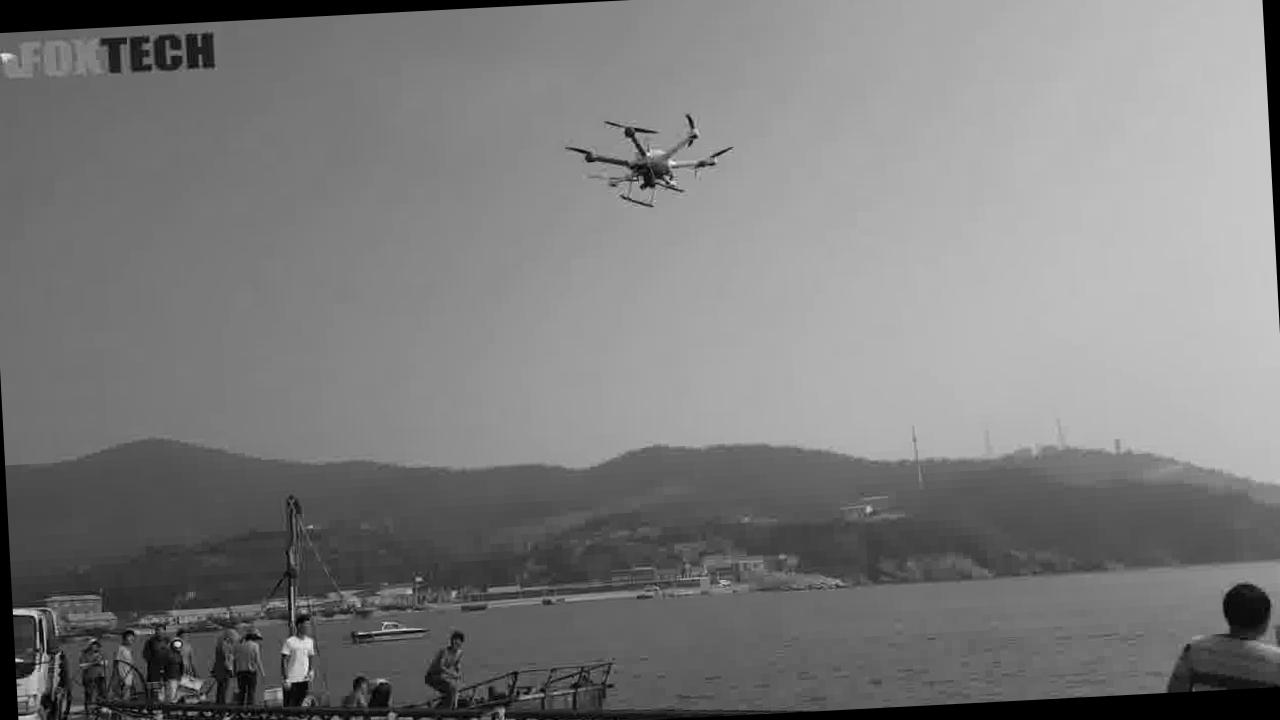drone: (563, 112, 732, 214)
